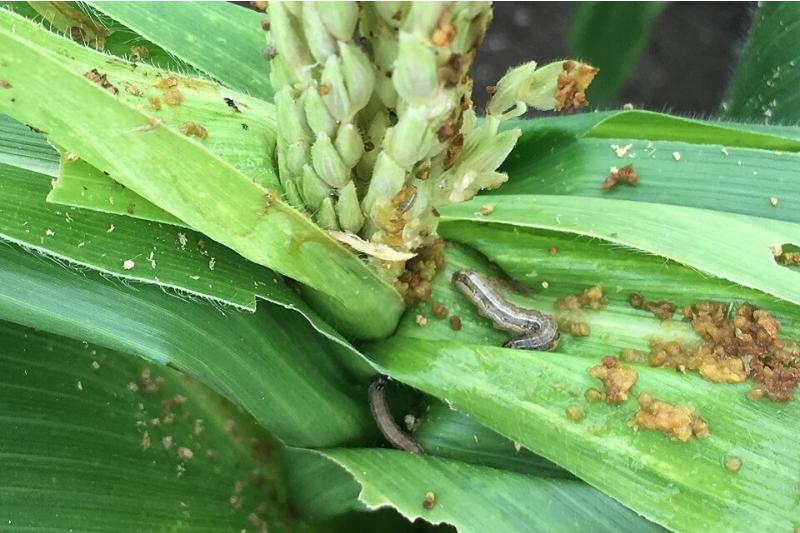fall-armyworm: (451, 267, 563, 354), (368, 376, 427, 462)
